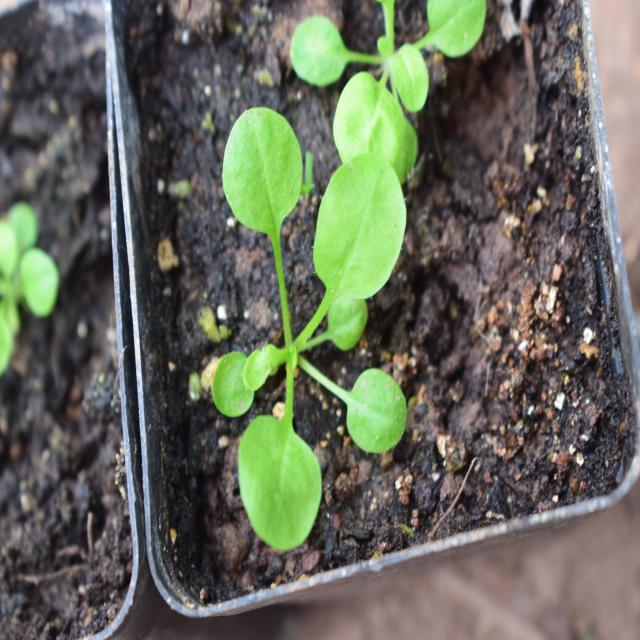Shepherd_Purse: (220, 98, 430, 550)
